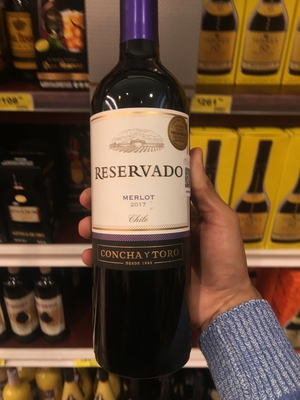reservado merlot: (70, 7, 221, 359)
